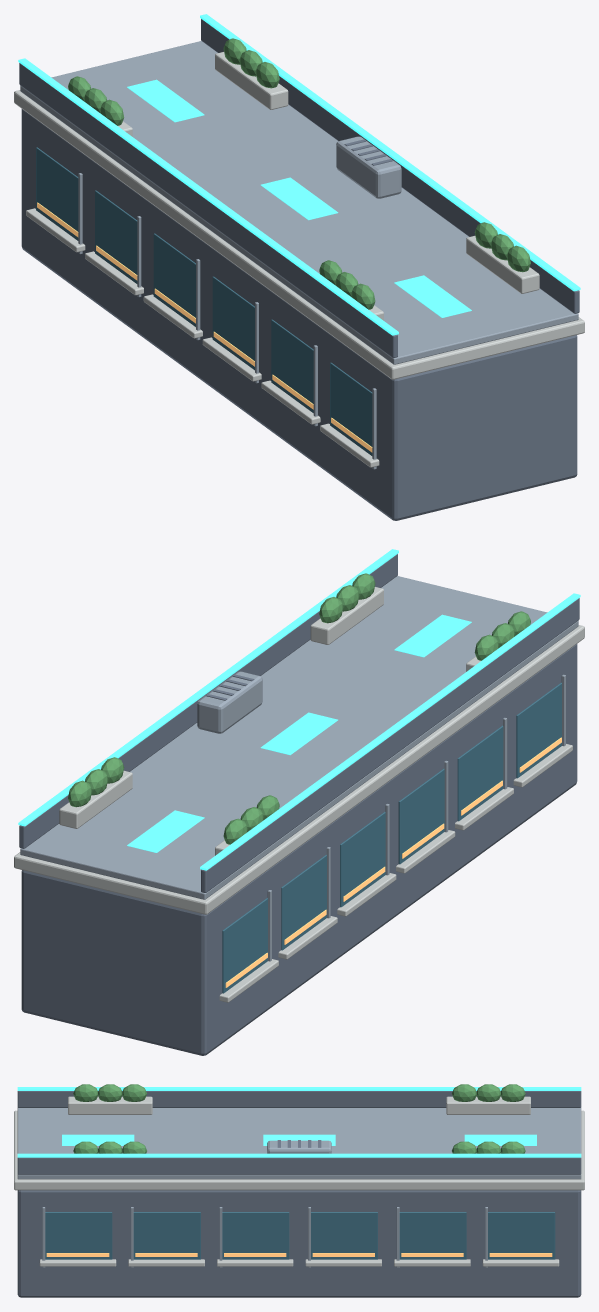
The model's file is rooftop-apartment.glb.
The picture shows the model from 3 angles, top to bottom: view 1: azimuth 30°, elevation 25°; view 2: azimuth 150°, elevation 25°; view 3: azimuth 270°, elevation 25°; orthographic projection. The views are drawn at different scales.
Parts seen in each view (by area): view 1: Apartment structure, Walkable roof, Roof cornice, Recessed occupied window, Neon coping, Icosphere, Warm interior strip; view 2: Apartment structure, Walkable roof, Roof cornice, Recessed occupied window, Neon coping, Icosphere, Warm interior strip; view 3: Apartment structure, Walkable roof, Recessed occupied window, Roof cornice, Neon coping, Icosphere, Warm interior strip.
Boxes of the visible parts, x1,y1,x2,y2 form: Apartment structure: [19, 19, 579, 520]; Walkable roof: [20, 41, 578, 469]; Roof cornice: [14, 52, 584, 467]; Recessed occupied window: [36, 147, 372, 455]; Neon coping: [18, 14, 580, 335]; Icosphere: [68, 38, 530, 309]; Warm interior strip: [37, 202, 372, 452]; Apartment structure: [19, 554, 579, 1055]; Walkable roof: [20, 576, 578, 961]; Roof cornice: [14, 587, 584, 1002]; Recessed occupied window: [222, 682, 561, 993]; Neon coping: [18, 549, 580, 870]; Icosphere: [68, 573, 530, 844]; Warm interior strip: [225, 737, 561, 987]; Apartment structure: [17, 1091, 581, 1297]; Walkable roof: [17, 1107, 581, 1267]; Recessed occupied window: [45, 1212, 555, 1259]; Roof cornice: [14, 1096, 584, 1266]; Neon coping: [17, 1087, 581, 1157]; Icosphere: [73, 1084, 525, 1153]; Warm interior strip: [46, 1253, 552, 1256].
Size of the model in its own units: 4.38 by 4.16 by 14.18.
